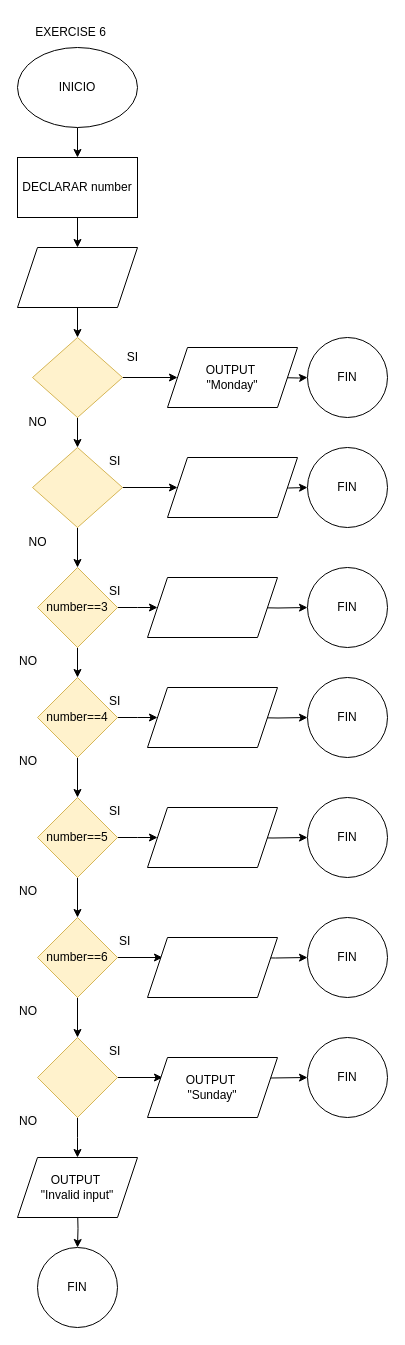
This 405x1345 diagram has some shape labels left out. Each missing label, with the centre of its shape:
INPUT number: point (77, 277)
number==1: point (77, 377)
number==2: point (77, 487)
number==7: point (77, 1077)
OUTPUT "Friday": point (212, 837)
OUTPUT "Saturday": point (212, 967)
OUTPUT "Thursday": point (212, 717)
OUTPUT "Tuesday": point (232, 487)
OUTPUT "Wednesday": point (212, 607)
